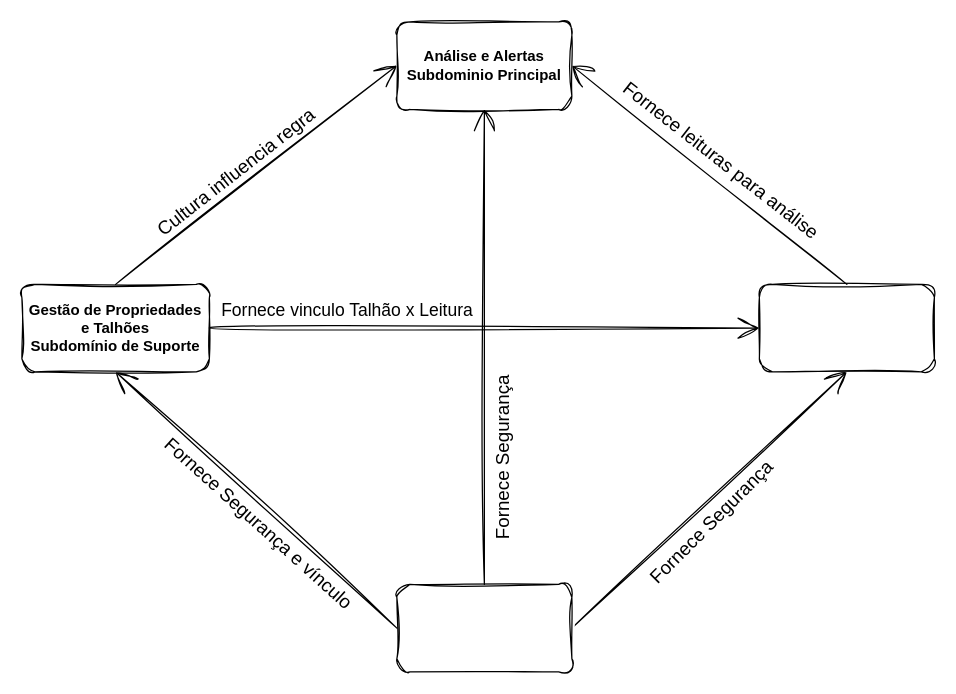
Some shapes in this 956 by 694 pixel diagram are drawn without their labels. Each missing label, with the box of its shape:
Gestão de Usuários Subdominio Genérico: (396, 583, 572, 672)
Telemetria Subdominio de Suporte: (758, 283, 934, 372)
